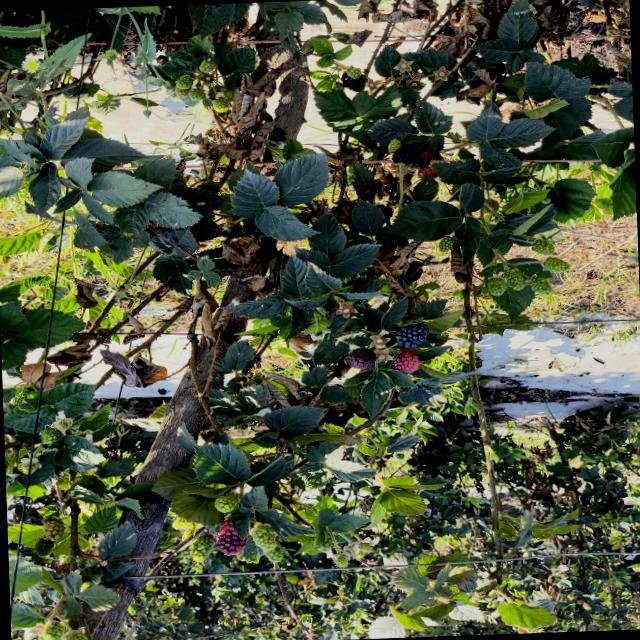maduro: (396, 323, 429, 348), (391, 144, 413, 163)
marron: (213, 519, 248, 555), (393, 351, 420, 373), (348, 348, 375, 369), (411, 152, 432, 167), (419, 165, 438, 177)
verde: (250, 522, 277, 552), (191, 533, 214, 562), (502, 268, 526, 290), (214, 493, 239, 513), (530, 276, 552, 295), (543, 257, 570, 272), (485, 278, 507, 296), (532, 238, 554, 255), (264, 544, 283, 562), (438, 236, 453, 252), (387, 138, 401, 153)
